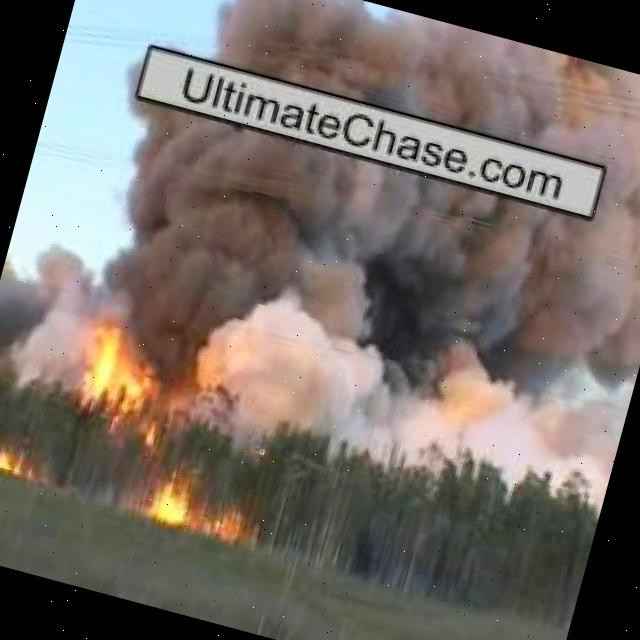fire: (74, 305, 178, 429), (145, 471, 201, 529), (0, 447, 39, 483), (214, 509, 250, 543)
